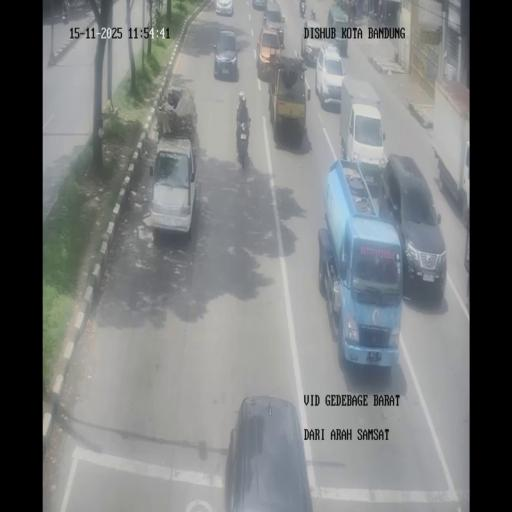car: (149, 133, 199, 234), (315, 45, 345, 109), (214, 29, 240, 80), (263, 0, 284, 45), (216, 0, 234, 17), (252, 0, 266, 9)
motorcycle: (236, 118, 250, 169), (368, 7, 381, 24), (62, 0, 70, 24), (350, 0, 356, 24), (300, 1, 306, 17), (310, 8, 316, 20), (262, 11, 266, 25)
truck: (318, 158, 404, 370), (431, 78, 471, 215), (340, 84, 386, 180), (268, 51, 309, 145), (324, 3, 351, 58), (302, 25, 322, 66)
